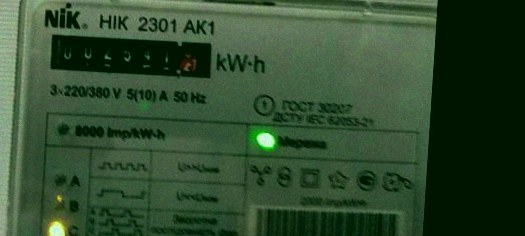0: (59, 39, 73, 61), (80, 38, 93, 60)
1: (159, 44, 171, 65)
2: (100, 41, 113, 61)
4: (140, 42, 153, 64)
5: (119, 41, 132, 64)
6: (180, 58, 192, 73)
screen: (38, 23, 223, 88)
